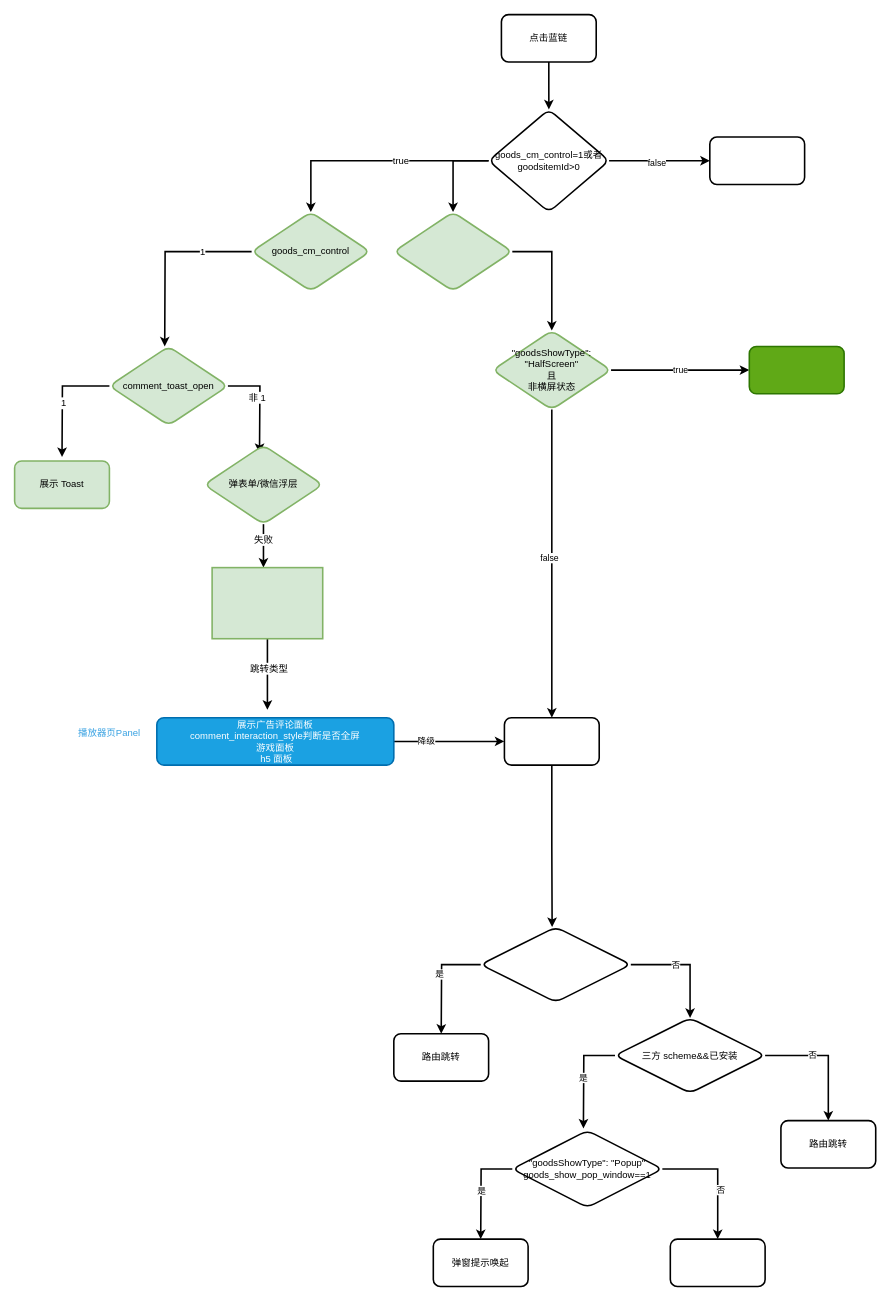
This 890x1300 diagram has some shape labels left out. The shapes that lost their labels are listed below. From the top down, each one's centre as x and y in pixels, then its label:
the point at 757,160: 评论处理
the point at 453,251: goodsitem>0
the point at 796,369: 展示商品面板
the point at 267,602: 微信小程序 | 唤起 | 跳转
the point at 551,741: 对 Url 正常处理
the point at 555,964: scheme 为 http/https/bilibili
the point at 717,1262: 直接唤起
